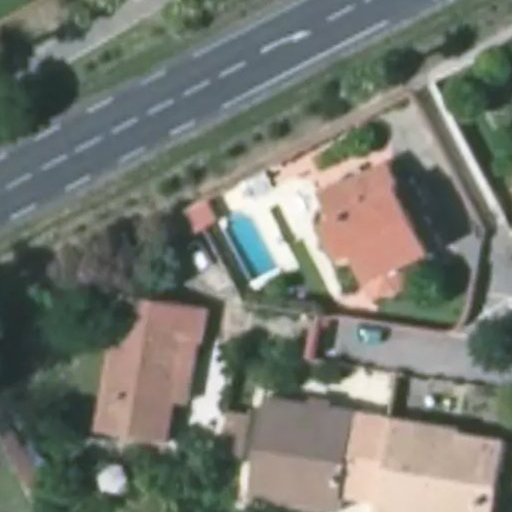pool: (225, 222, 286, 261)
